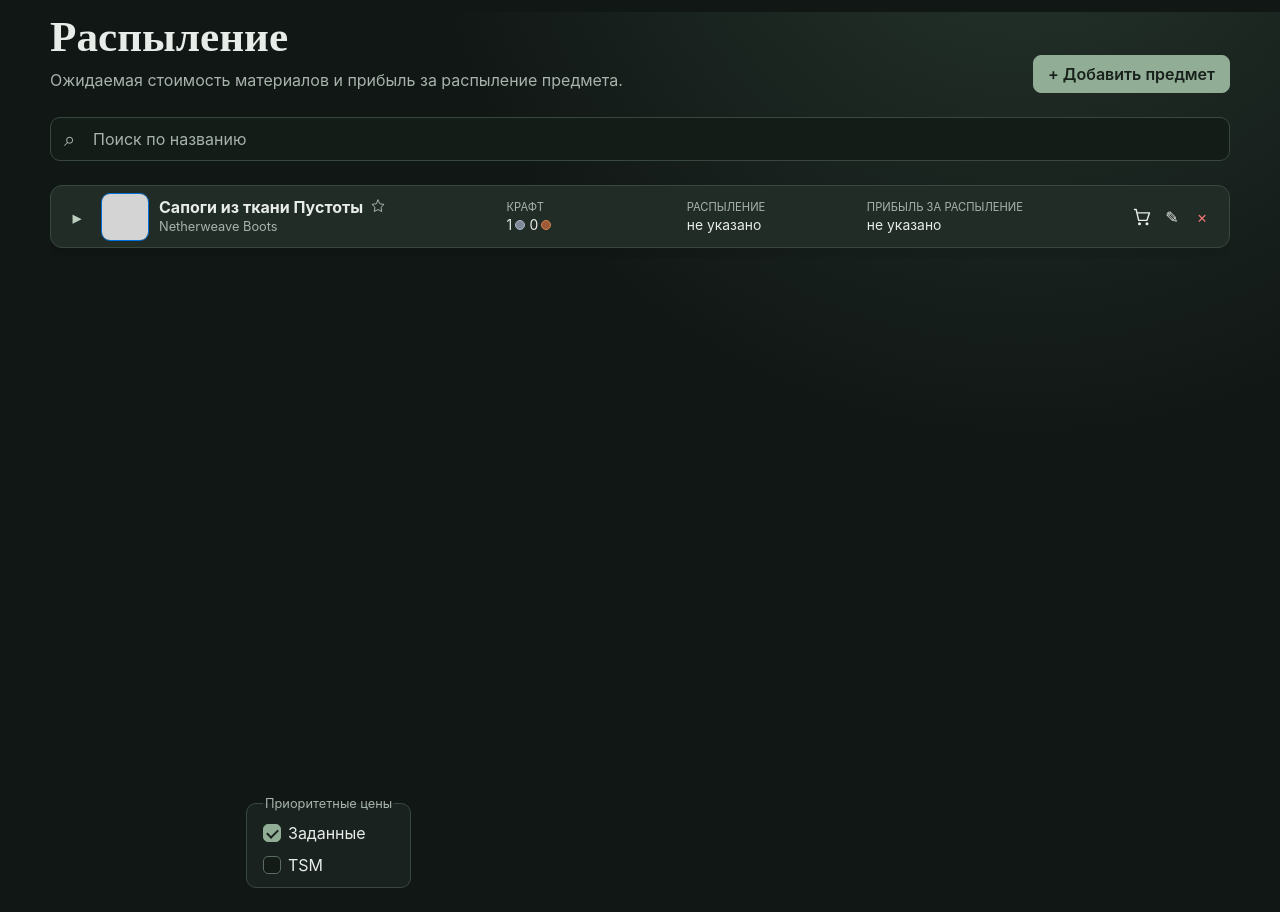
Test case: страница Распыление › сохраняет дробный процент редкого исхода в подсказке
Step 1. Hover over the element with class "tooltip-trigger" → point(724, 225), box [687,217,761,233]
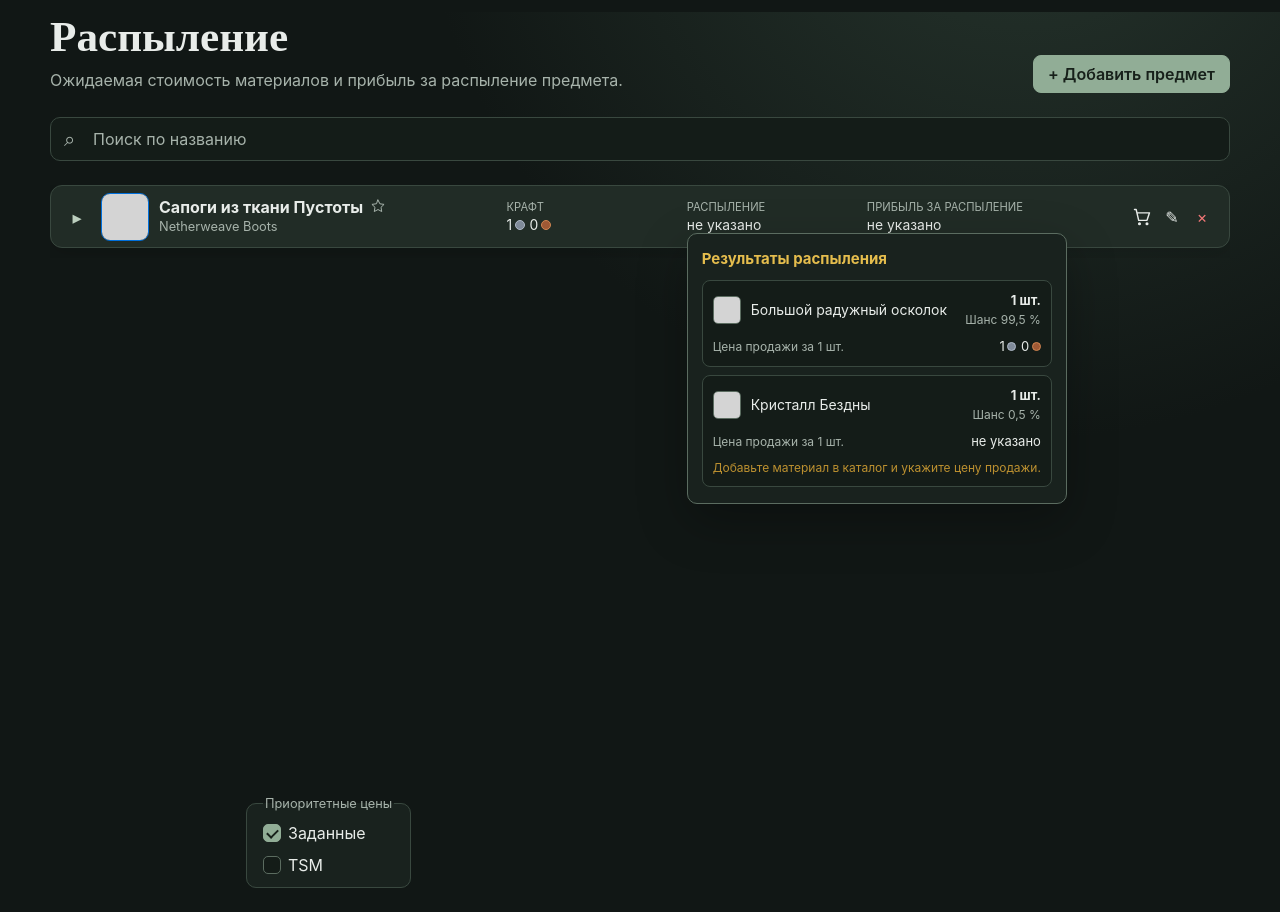
Expected: the text "Большой радужный осколок 1 шт. Шанс 99,5 % Цена продажи за 1 шт. 1 0" is shown, [702,280,1052,367]
